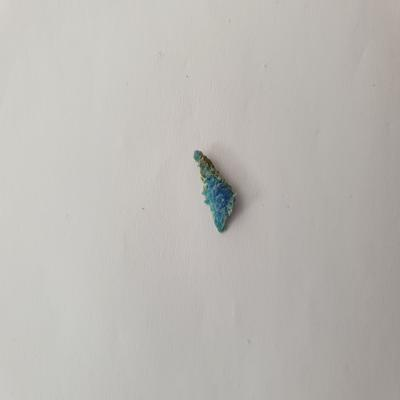plastic: (191, 146, 244, 238)
